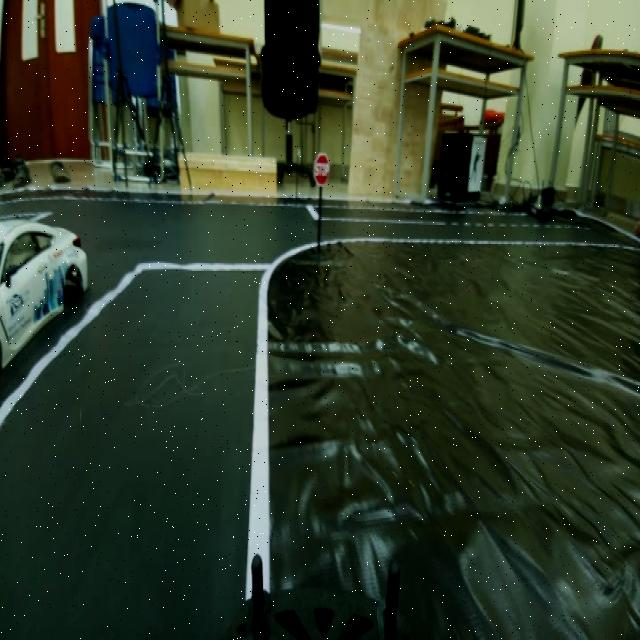stop: (307, 149, 339, 187)
